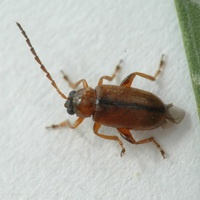insect: (16, 22, 184, 158)
